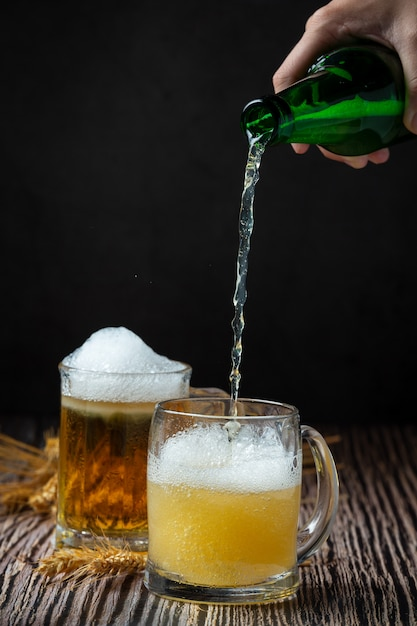alcohol: (150, 399, 343, 605), (57, 323, 194, 553), (240, 30, 417, 159)
